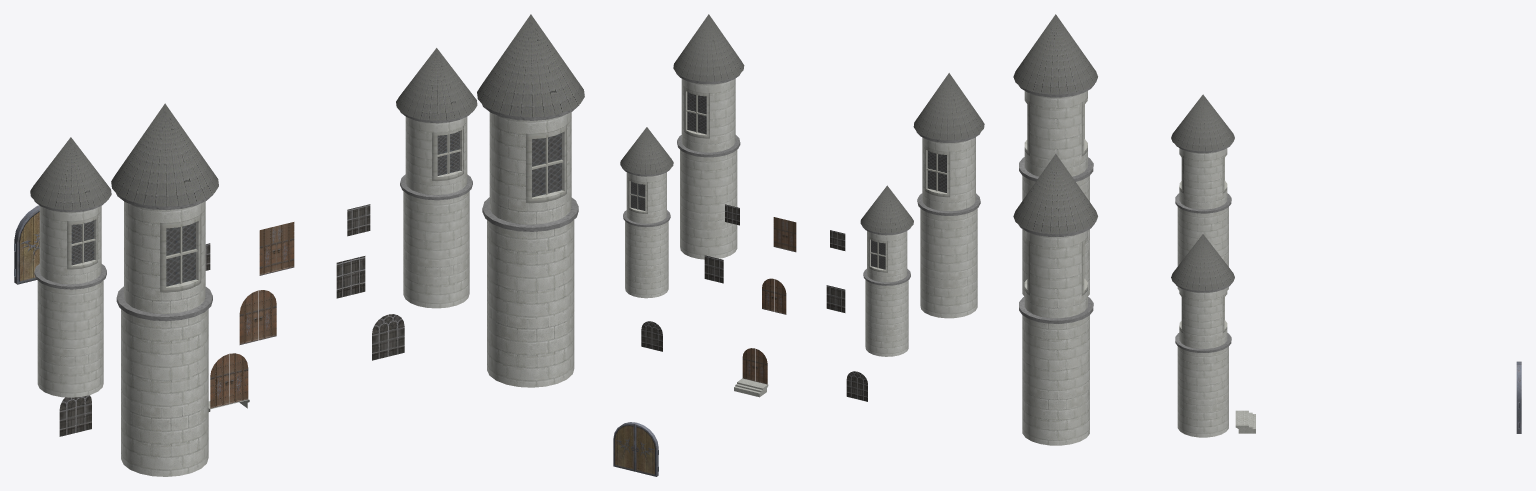
The model's file is castle_towers.obj.
3 renders of one model, left to right at view 1: azimuth 30°, elevation 25°; view 2: azimuth 150°, elevation 25°; view 3: azimuth 270°, elevation 25°, orthographic. The views are drawn at different scales.
Parts seen in each view (by area): view 1: Towers_Doors_and_Windows_Untitled.002; view 2: Towers_Doors_and_Windows_Untitled.002; view 3: Towers_Doors_and_Windows_Untitled.002.
Part boxes in pixels (x1,y1,x2,y2): Towers_Doors_and_Windows_Untitled.002: [14, 14, 584, 476]; Towers_Doors_and_Windows_Untitled.002: [613, 14, 984, 476]; Towers_Doors_and_Windows_Untitled.002: [1013, 14, 1521, 445].
Bounding box in the file's own units: 0.4407 × 0.4026 × 0.5397.
